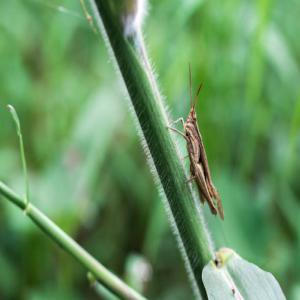locust: (161, 52, 242, 216)
